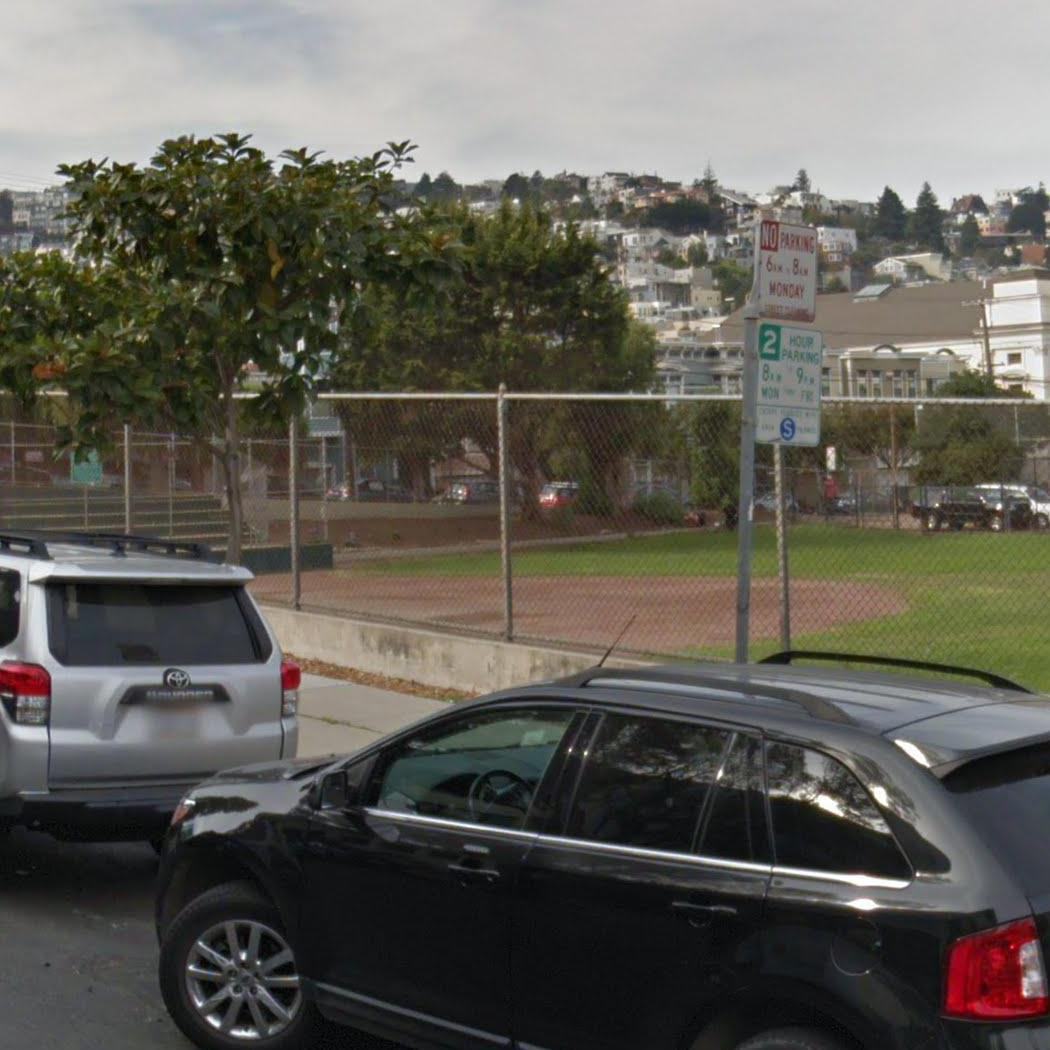2 Hour Parking: (751, 319, 825, 450)
No Parking: (752, 217, 821, 322)
